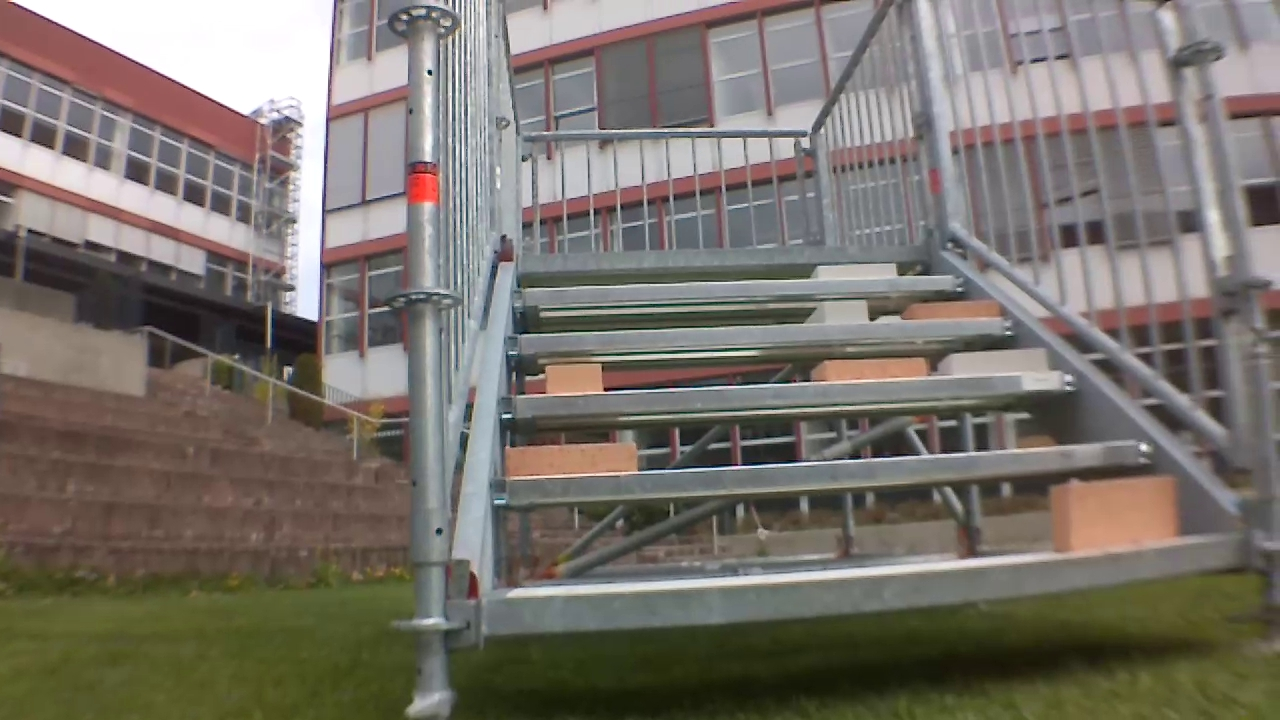brick: (1041, 473, 1192, 554), (506, 442, 641, 477), (944, 350, 1049, 382), (814, 359, 930, 387), (908, 298, 999, 330), (813, 256, 898, 282), (546, 364, 601, 392), (811, 300, 867, 325)
edge: (485, 536, 1269, 643), (503, 435, 1151, 510), (502, 375, 1089, 427), (498, 319, 1024, 364), (510, 273, 969, 312), (513, 247, 932, 278)
stairs: (430, 0, 1276, 713)
steps: (471, 247, 1255, 655)
